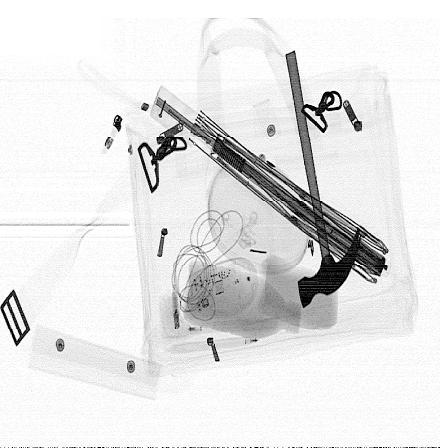Hammer: (285, 49, 361, 310)
